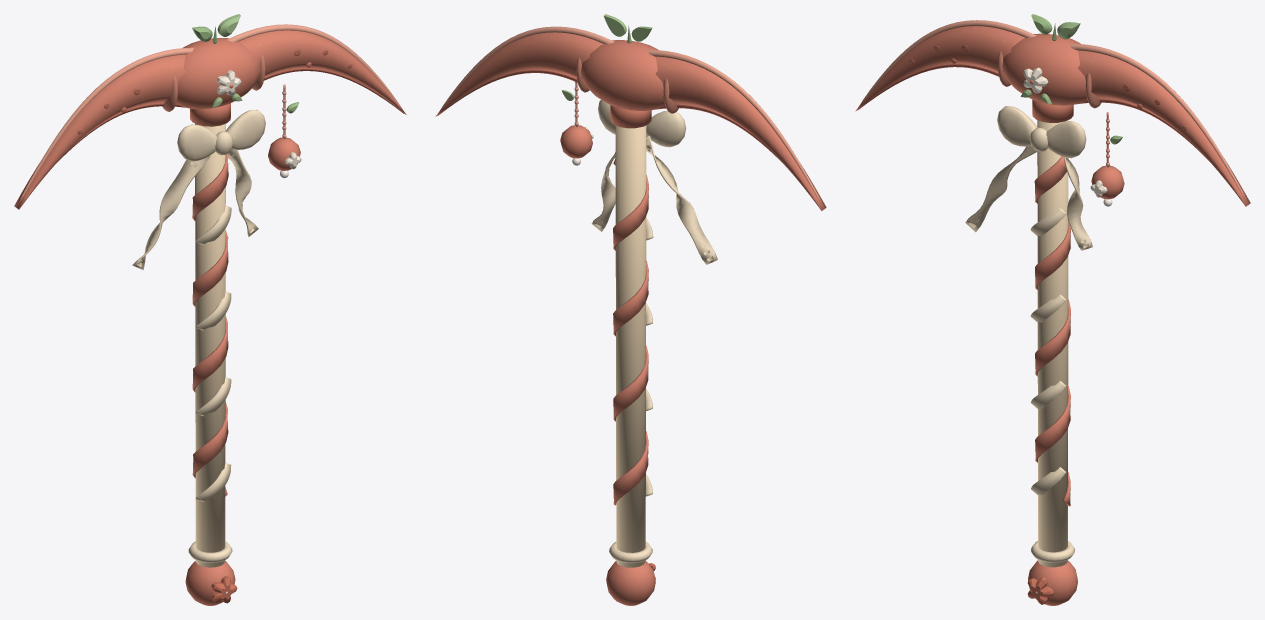
The model's file is TitanClayPickaxe.glb.
3 renders of one model, left to right at view 1: azimuth 30°, elevation 25°; view 2: azimuth 150°, elevation 25°; view 3: azimuth 330°, elevation 25°, orthographic.
Parts seen in each view (by area): view 1: TitanClayPickaxe_SmoothPlastic; view 2: TitanClayPickaxe_SmoothPlastic; view 3: TitanClayPickaxe_SmoothPlastic.
Part boxes in pixels (x1,y1,x2,y2): TitanClayPickaxe_SmoothPlastic: (14,14,406,605); TitanClayPickaxe_SmoothPlastic: (435,14,826,605); TitanClayPickaxe_SmoothPlastic: (855,14,1250,605).
Bounding box in the file's own units: 3.03 × 4.34 × 0.524.
2 materials, 2 textured.
